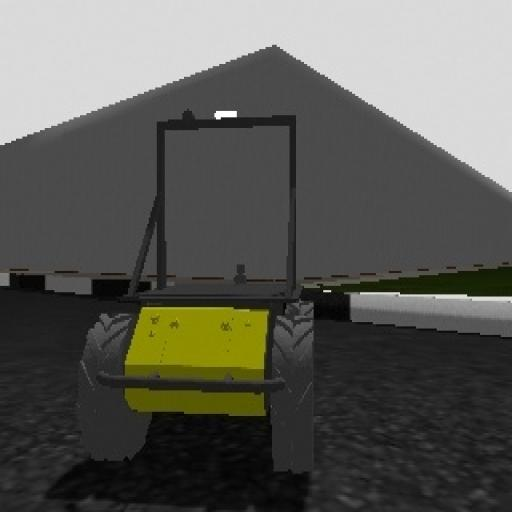huskya200: (62, 108, 338, 498)
